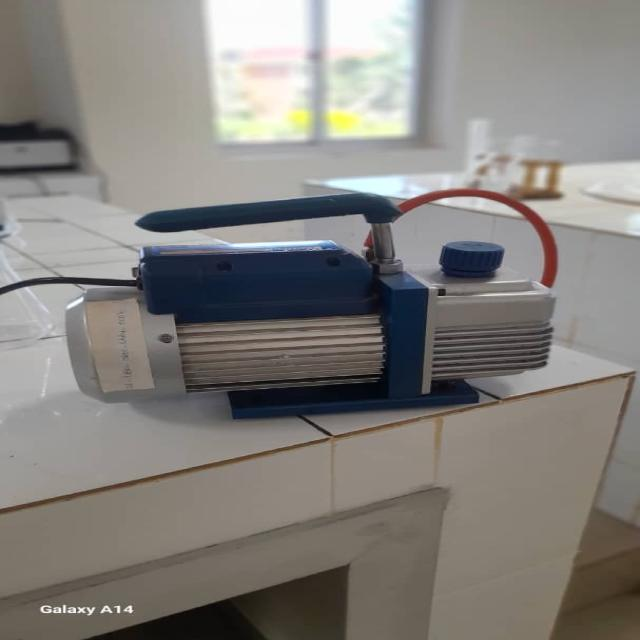Vacuum Pump: (48, 190, 617, 426)
